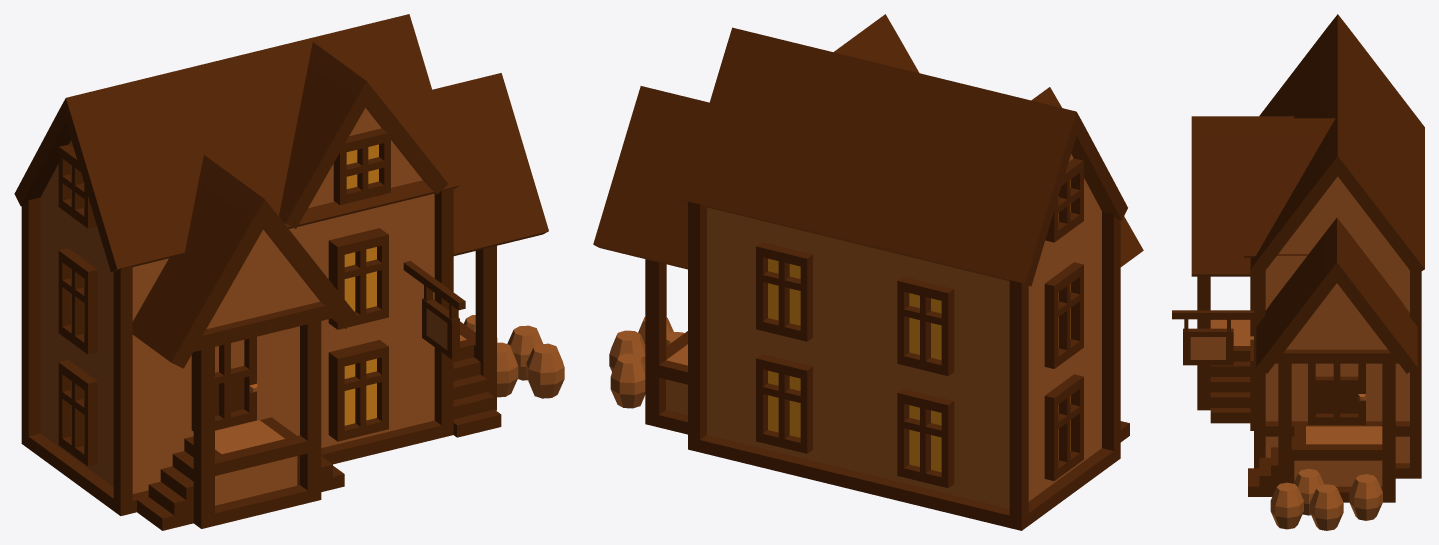
File: Tavern1.fbx
3 renders of one model, left to right at view 1: azimuth 30°, elevation 25°; view 2: azimuth 150°, elevation 25°; view 3: azimuth 270°, elevation 25°, orthographic. The views are drawn at different scales.
Visible parts, largest first — view 1: Cube.052; view 2: Cube.052; view 3: Cube.052.
Boxes of the visible parts, bbox=[...] form: Cube.052: bbox=[14, 14, 564, 530]; Cube.052: bbox=[593, 14, 1143, 530]; Cube.052: bbox=[1172, 14, 1424, 530].
Bounding box in the file's own units: 198 × 154 × 109.
